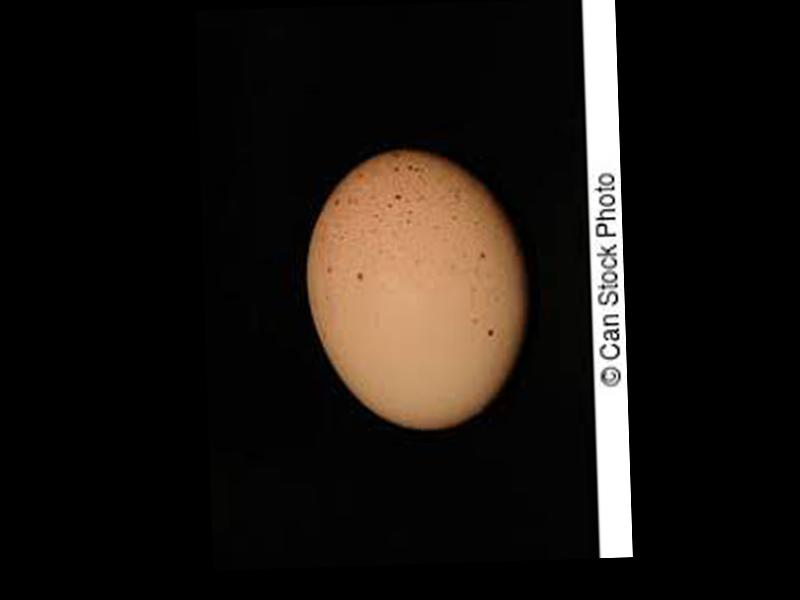Eggs: (304, 147, 533, 433)
